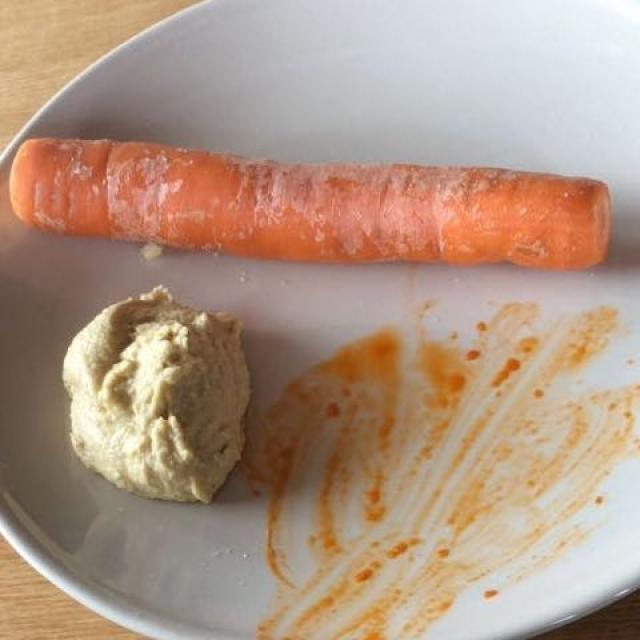carrot: (10, 139, 615, 266)
hummus: (62, 293, 237, 502)
